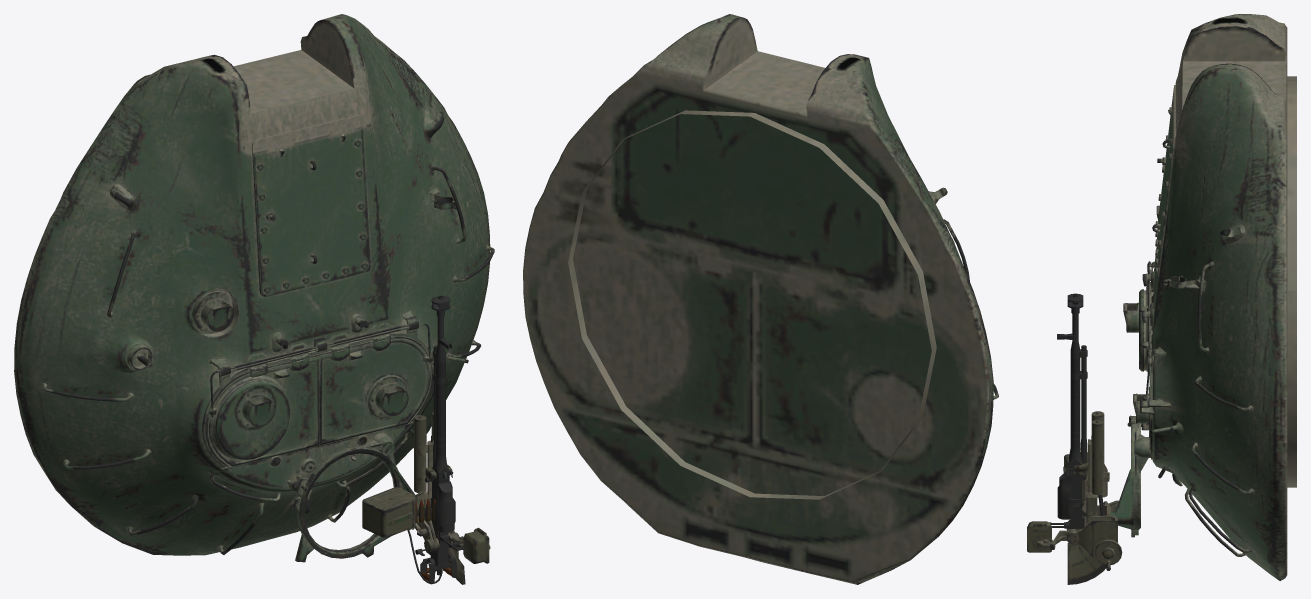
File: Turret_01.glb
3 renders of one model, left to right at view 1: azimuth 30°, elevation 25°; view 2: azimuth 150°, elevation 25°; view 3: azimuth 270°, elevation 25°, orthographic. The views are drawn at different scales.
Visible parts, largest first — view 1: set_0_group_0; view 2: set_0_group_0; view 3: set_0_group_0.
Boxes of the visible parts, box(x1,y1,x2,y2) form: set_0_group_0: box(14, 14, 494, 584); set_0_group_0: box(523, 14, 998, 584); set_0_group_0: box(1027, 14, 1296, 584).
Size of the model in its own units: 2.93 by 3.1 by 1.5.
Materials: 1 (1 with a texture image).
